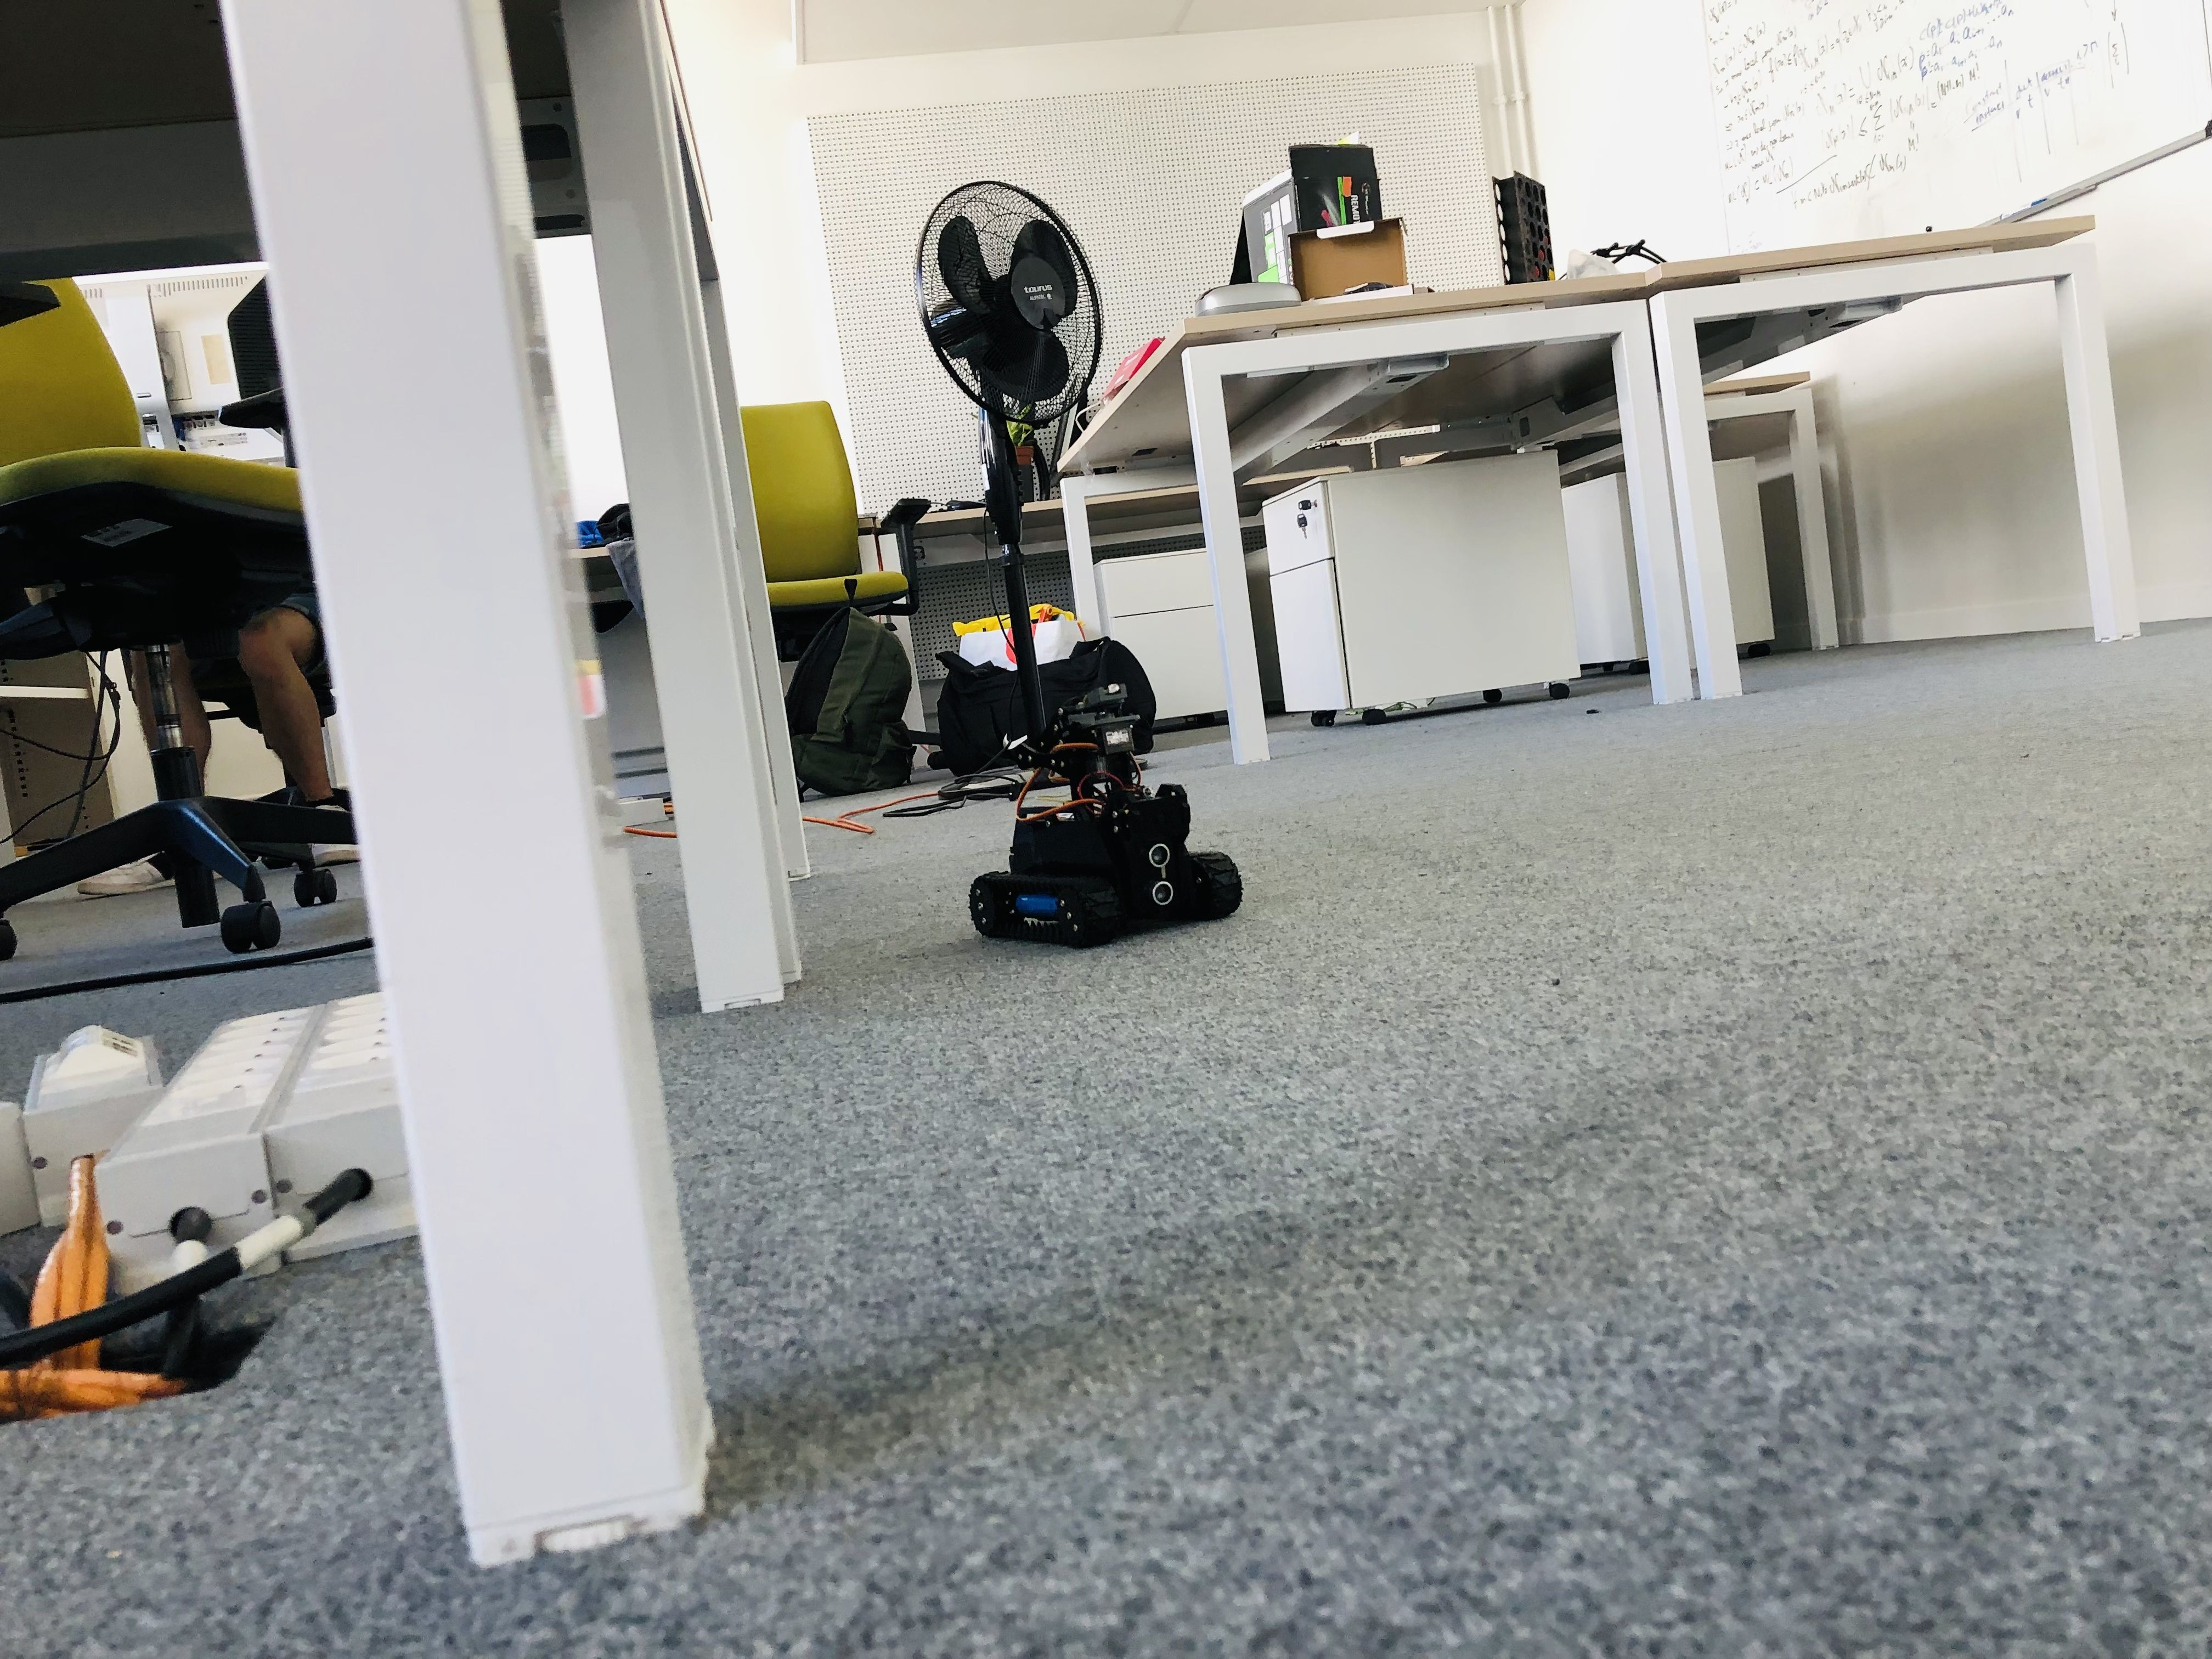rasptank: (965, 681, 1244, 958)
